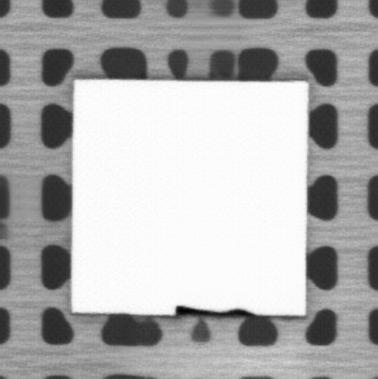DIE_BROKEN: (173, 303, 257, 317)
